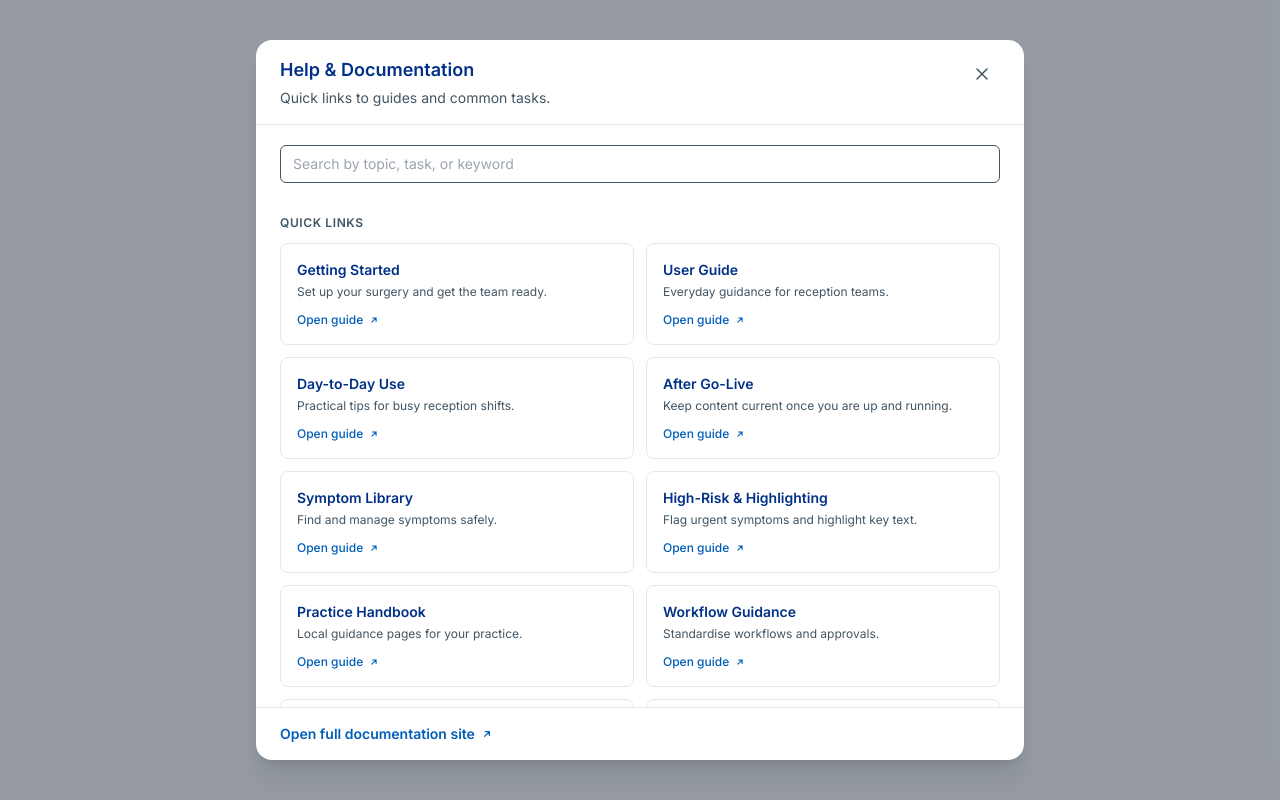
Test: HelpPanel › shows an empty state when nothing matches
Type "zzzznomatch" into the search field named "Search help links" at (640, 164), box [280,145,1000,183]
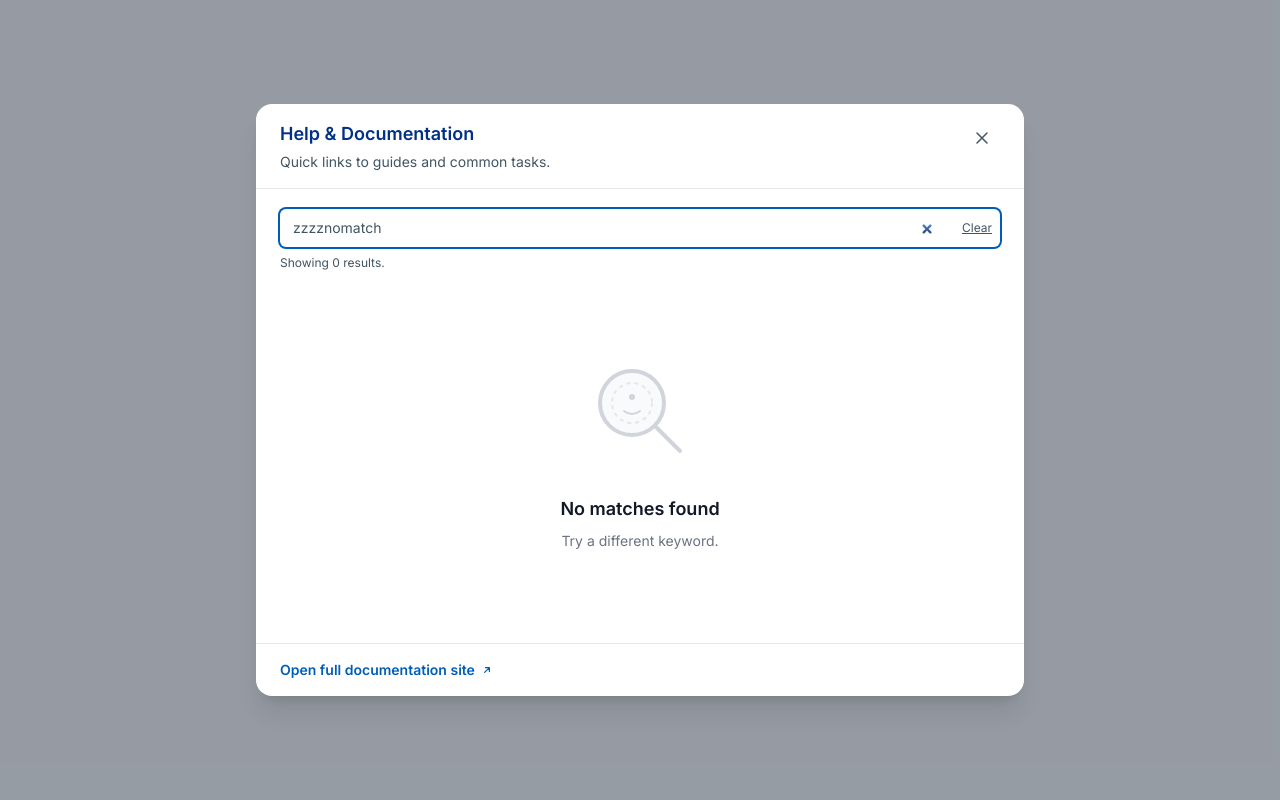
Now the heading "No matches found" is shown, box [560,495,720,523]
